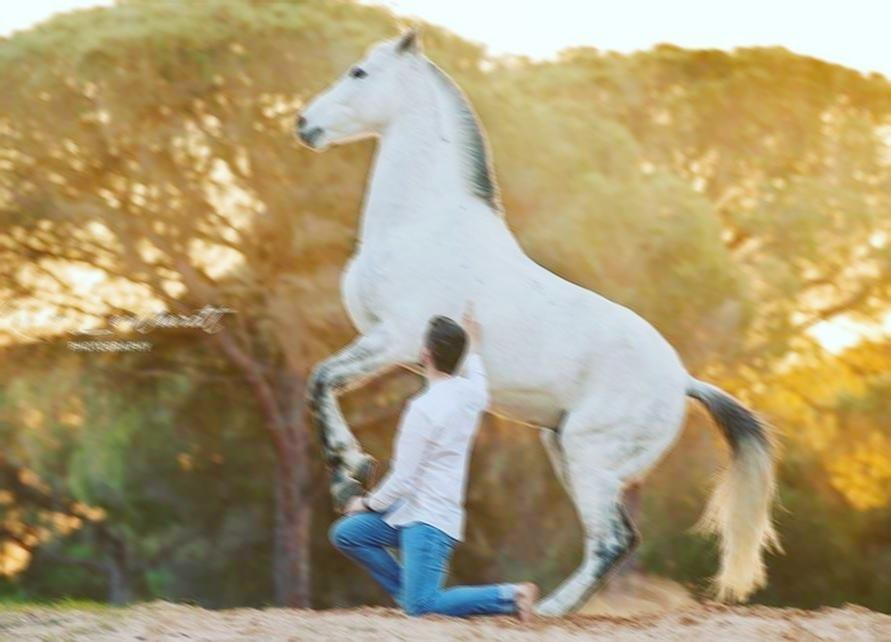horse: (292, 18, 788, 618)
